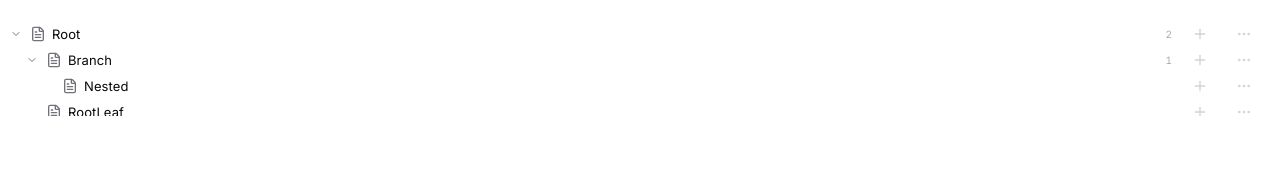
<VirtualizedPageTree> chevron + child-count badges (v0.10.2 S8) › clicking a chevron collapses ALL descendants (children + grandchildren) and back
Step 1. Click the 1st button named "sidebar.pages.toggleChildren" → (16, 34), box [8,26,24,42]
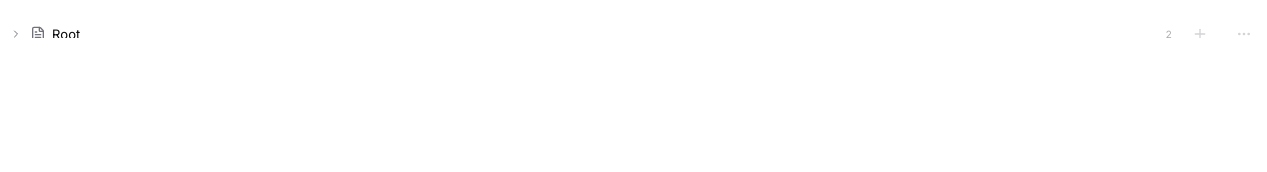
Result: the text "Branch" is gone
Result: the text "Nested" is gone
Result: the text "RootLeaf" is gone
Toggle back: everything reappears (default expanded, no persistence).
Step 2. Click the button named "sidebar.pages.toggleChildren" → (16, 34), box [8,26,24,42]
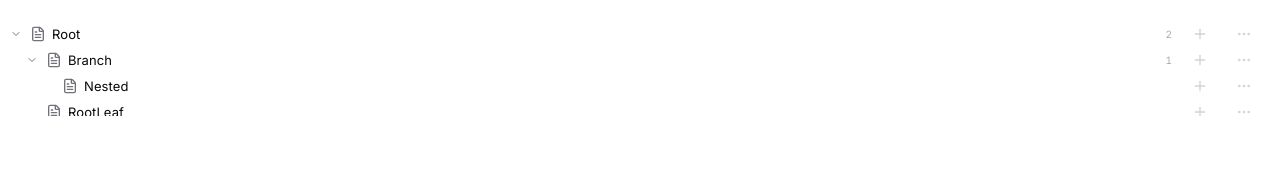
Result: the text "Branch" is shown at [68,52,112,68]
Result: the text "Nested" is shown at [84,78,128,94]
Result: the text "RootLeaf" is shown at [68,104,124,116]
